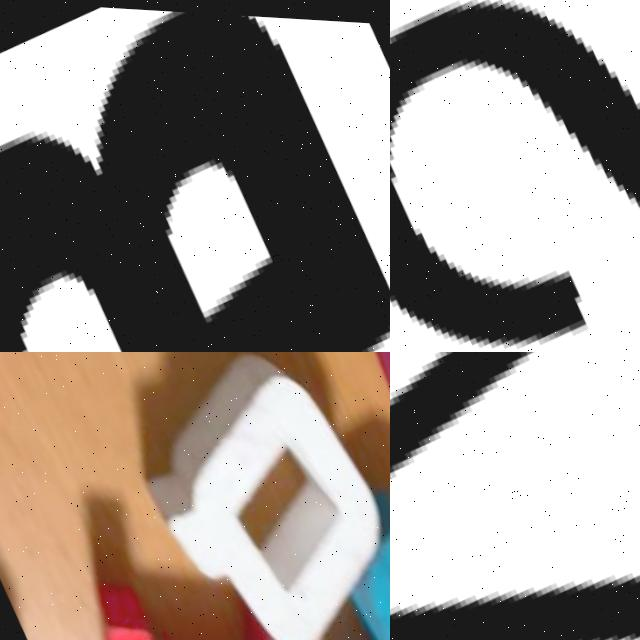B: (0, 7, 390, 352)
I: (51, 511, 361, 640)
P: (263, 474, 390, 640)
Q: (113, 352, 390, 640)
S: (390, 0, 640, 352)
V: (390, 352, 640, 640)
